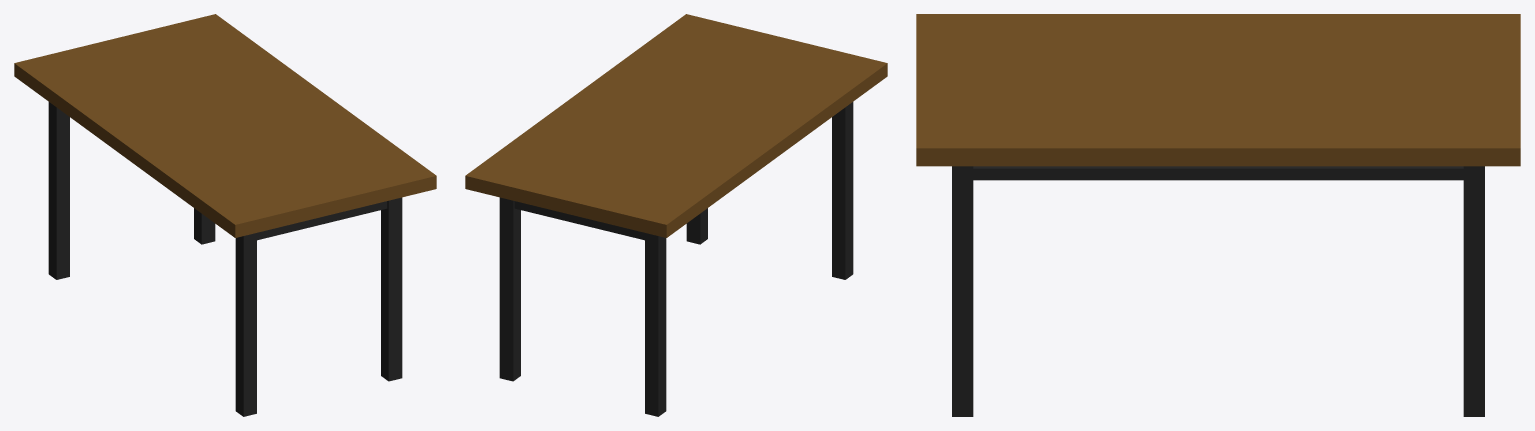
Rendered from Table.fbx.
3 renders of one model, left to right at view 1: azimuth 30°, elevation 25°; view 2: azimuth 150°, elevation 25°; view 3: azimuth 270°, elevation 25°, orthographic. The views are drawn at different scales.
Parts seen in each view (by area): view 1: Cube.001; view 2: Cube.001; view 3: Cube.001.
Part boxes in pixels (x1,y1,x2,y2): Cube.001: [14, 14, 436, 416]; Cube.001: [465, 14, 887, 416]; Cube.001: [916, 14, 1520, 416].
Size of the model in its own units: 200 by 196 by 380.
